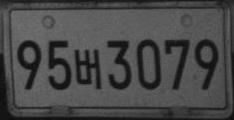0: (135, 38, 162, 90)
3: (106, 39, 132, 90)
5: (47, 40, 72, 91)
7: (164, 38, 191, 90)
9: (193, 38, 219, 90), (16, 39, 42, 89)
버: (73, 48, 102, 88)
